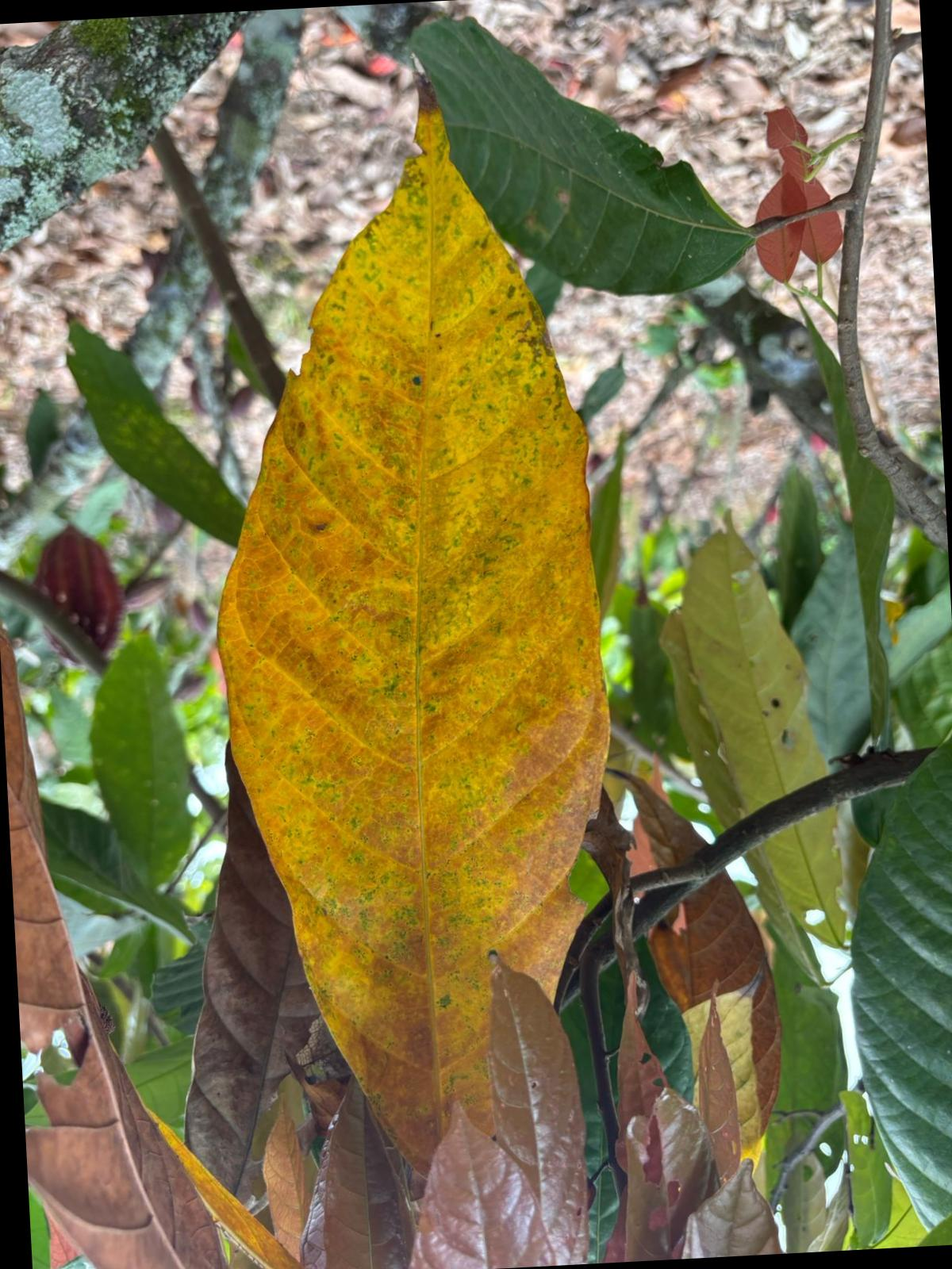Fosforo: (220, 92, 608, 1171)
